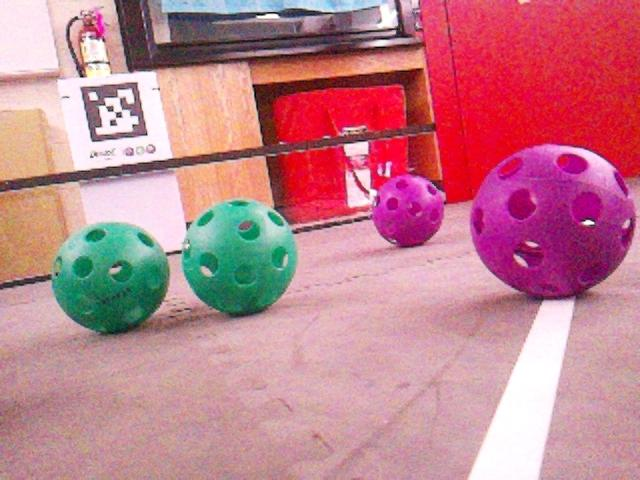Green: (179, 198, 298, 316), (50, 221, 171, 333)
Purple: (469, 145, 635, 299), (370, 172, 445, 247)
